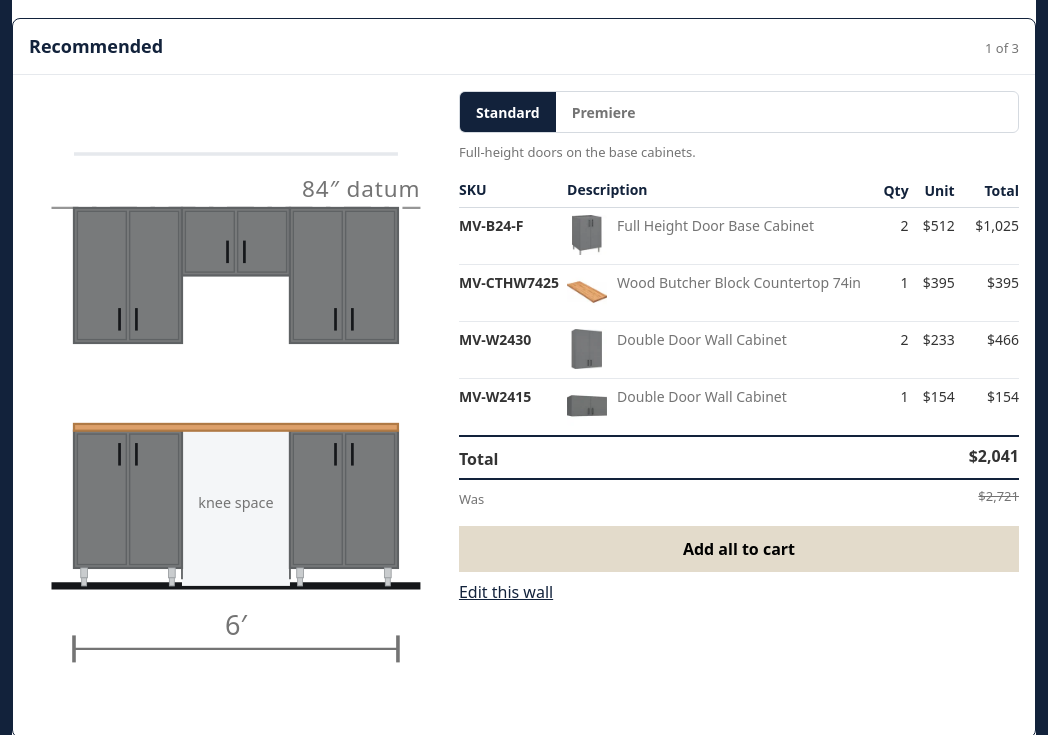
Test: Results › says what each tier actually changes, since the names do not
Expected: the element that starts with "Recommended" shows "Full-height doors", 459,143 -> 696,161
Click the button "Premiere".
click(604, 112)  # box 556,92 -> 651,132
(page scrolled)
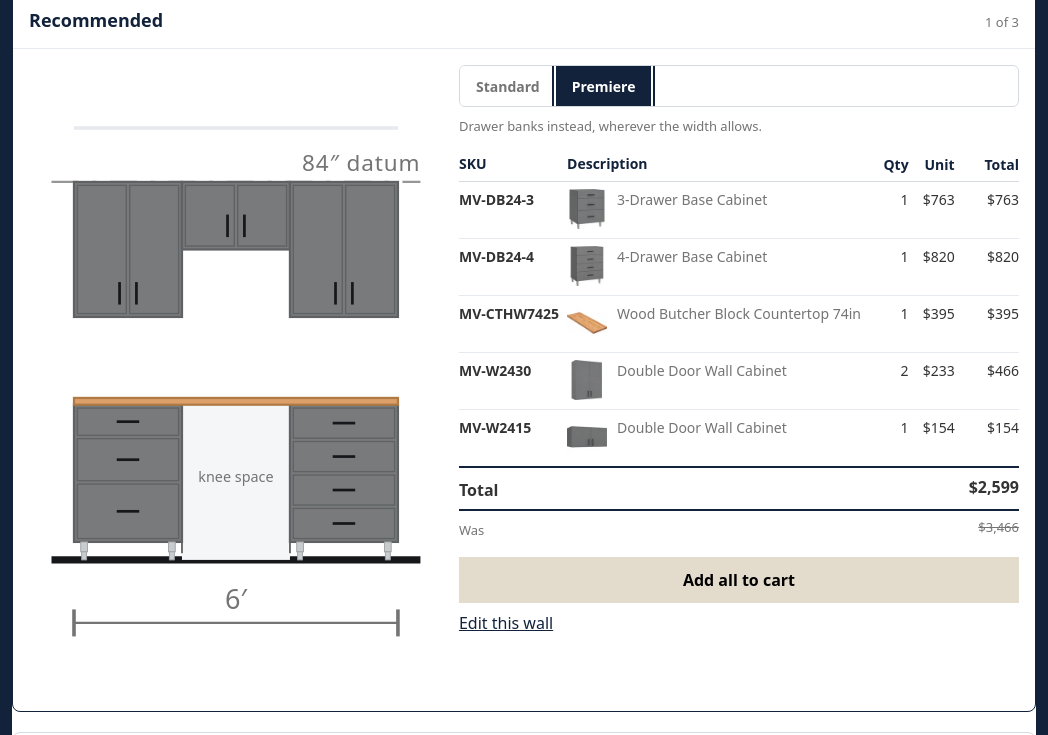
Now the element that starts with "Recommended" shows "Drawer banks", box 459,117 -> 762,135
